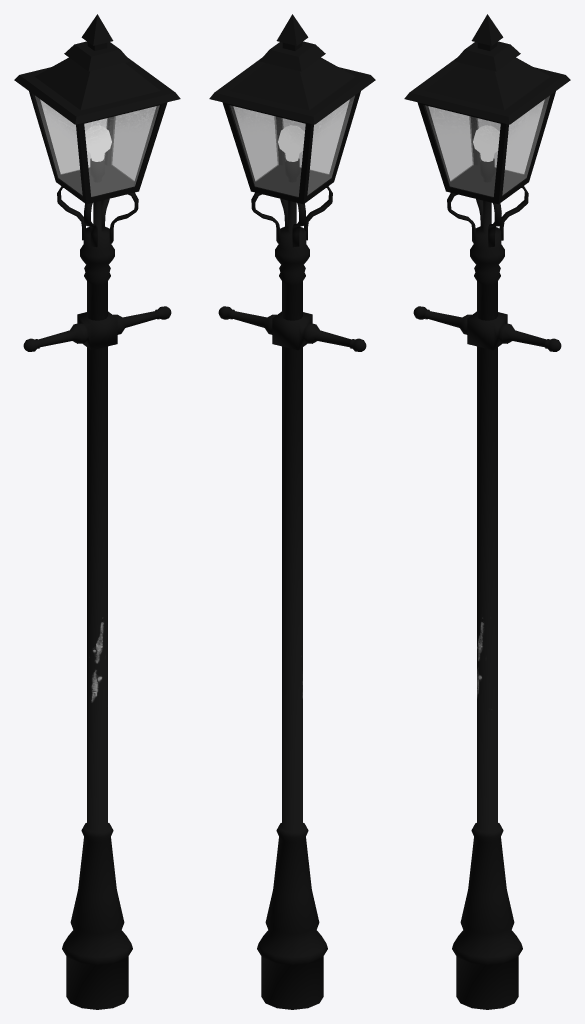
File: light_pole.glb
3 views of the same model, side by side, from view 1: azimuth 30°, elevation 25°; view 2: azimuth 150°, elevation 25°; view 3: azimuth 330°, elevation 25° (orthographic).
Visible parts, largest first — view 1: Object_3; view 2: Object_3; view 3: Object_3.
Boxes of the visible parts, x1,y1,x2,y2 form: Object_3: (14, 14, 180, 1009); Object_3: (209, 14, 375, 1009); Object_3: (404, 14, 570, 1009).
Size of the model in its own units: 1.48 by 9.47 by 1.07.
1 material, 1 textured.
